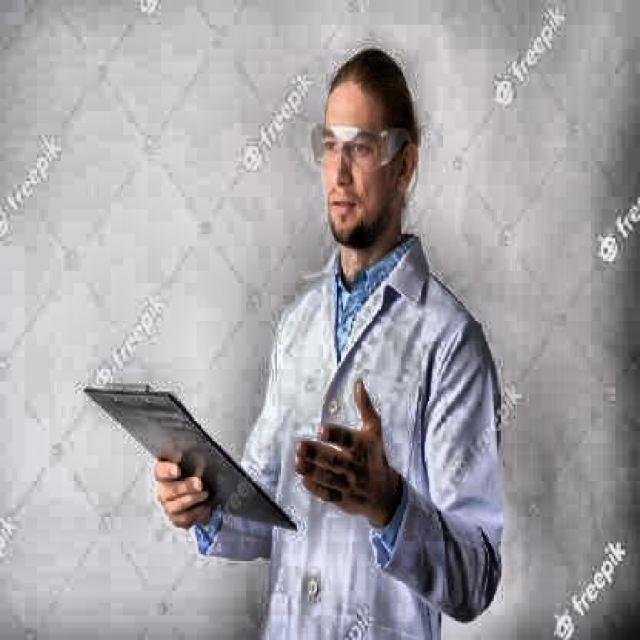Goggles: (300, 117, 420, 177)
